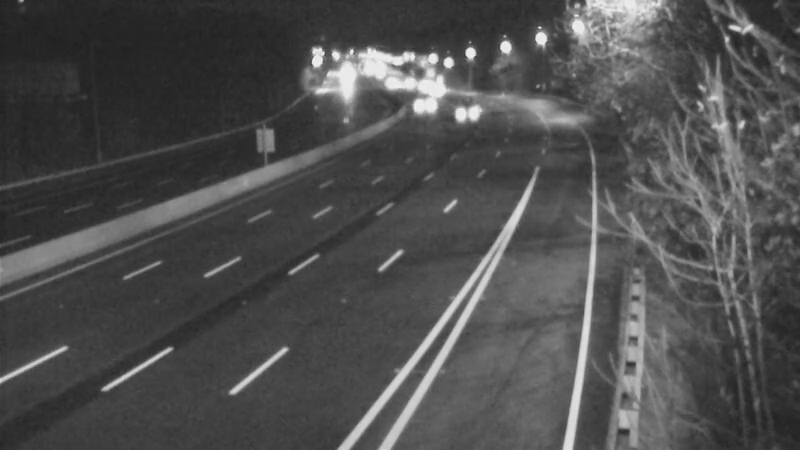vehicle: (397, 84, 447, 134), (441, 84, 491, 134)
